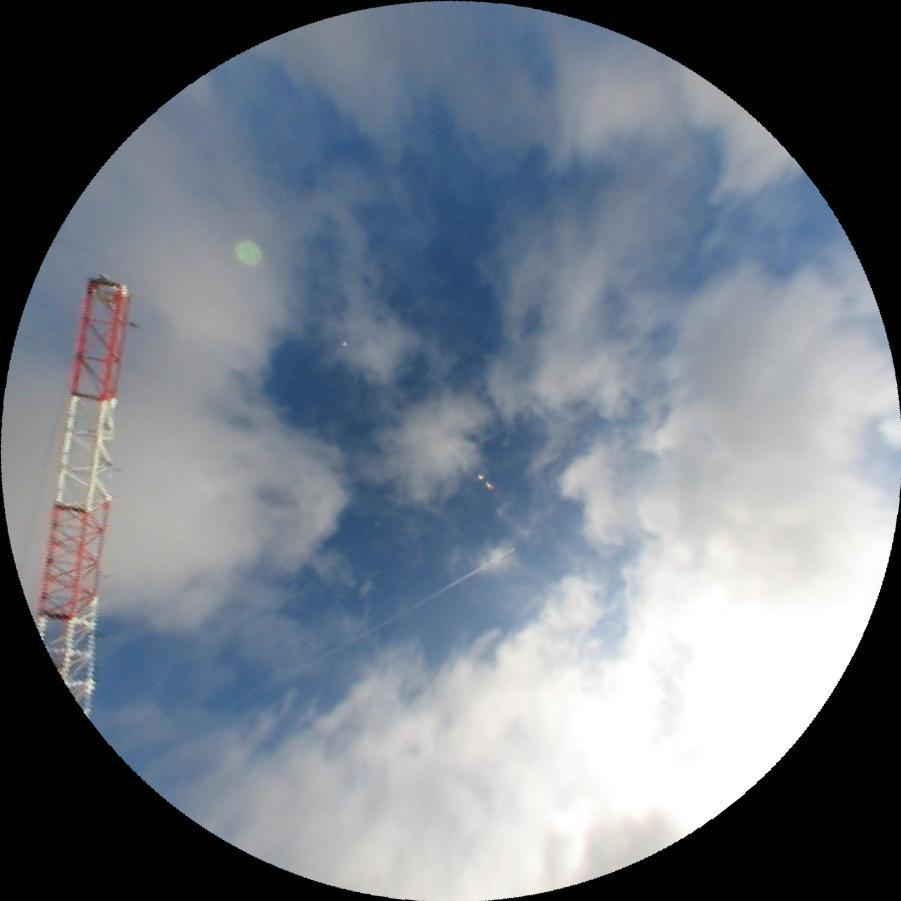contrail young: (322, 545, 517, 659)
